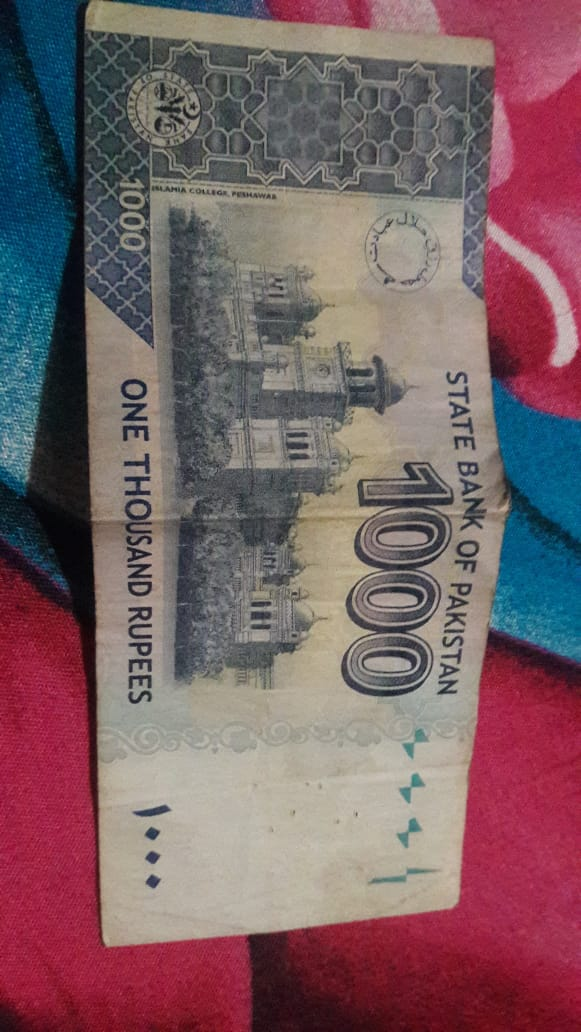1000 rupee: (60, 20, 525, 975)
